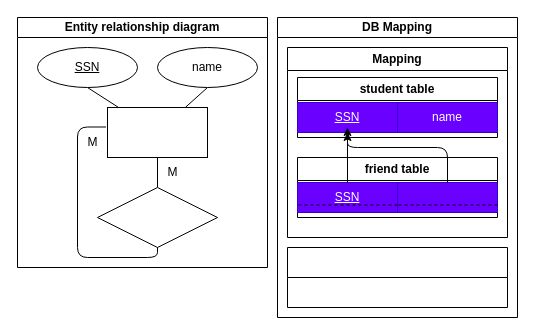
Some shapes in this 535 by 335 pixel diagram are drawn without their labels. Each missing label, with the centre of its shape:
"constraints file" belongs at (x=397, y=277).
"friend" belongs at (x=157, y=217).
"FSSN" belongs at (x=447, y=197).
"student" belongs at (x=157, y=132).
